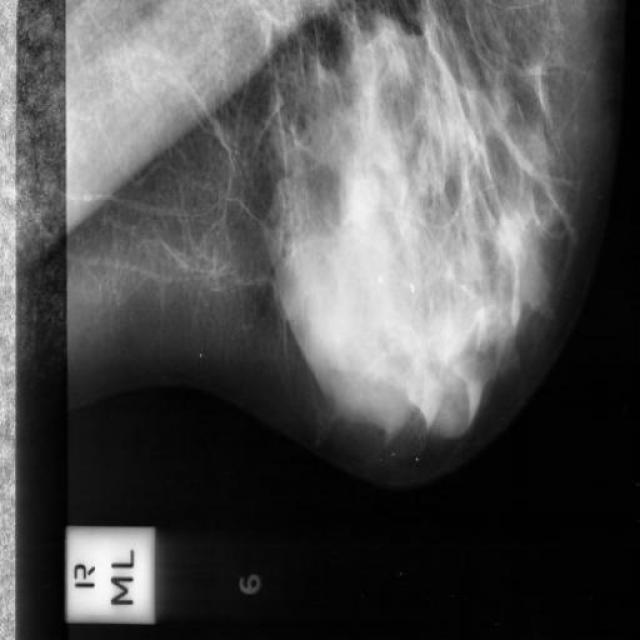cancer: (154, 334, 238, 416)
